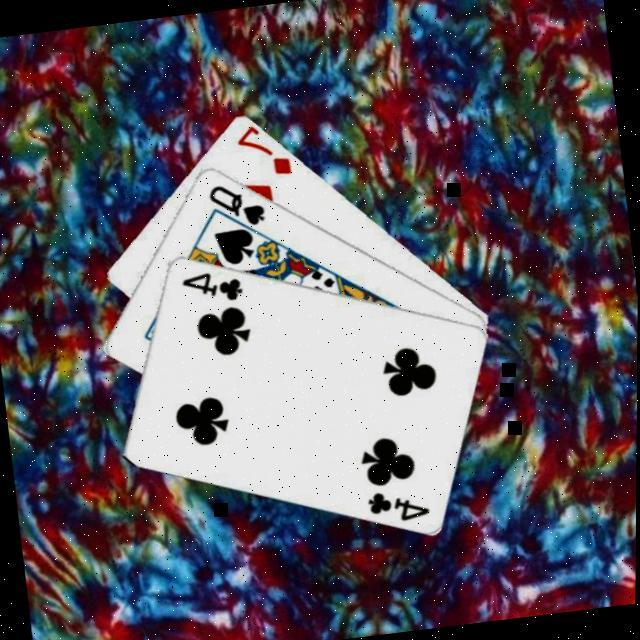4C: (362, 484, 433, 530), (177, 266, 246, 311)
7D: (230, 120, 295, 185)
QS: (203, 178, 269, 235)
